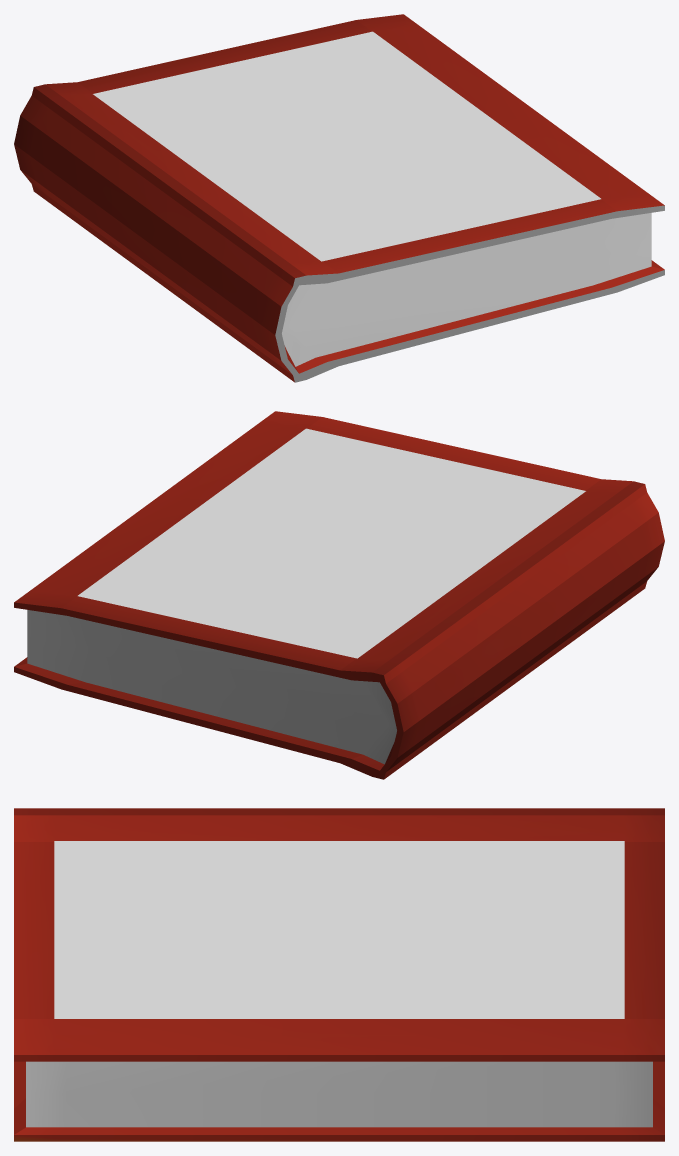
File: Fixed_Item_Book_W_Label_Ver1.fbx
The picture shows the model from 3 angles, top to bottom: view 1: azimuth 30°, elevation 25°; view 2: azimuth 150°, elevation 25°; view 3: azimuth 270°, elevation 25°; orthographic projection. The views are drawn at different scales.
Visible parts, largest first — view 1: Book_low, Book_Label; view 2: Book_low, Book_Label; view 3: Book_low, Book_Label.
Boxes of the visible parts, bbox=[...] form: Book_low: bbox=[14, 14, 664, 382]; Book_Label: bbox=[93, 31, 600, 261]; Book_low: bbox=[14, 411, 664, 779]; Book_Label: bbox=[78, 428, 585, 658]; Book_low: bbox=[14, 808, 664, 1141]; Book_Label: bbox=[54, 841, 624, 1018].
Bounding box in the file's own units: 972 × 249 × 1129.
Materials: 2 (1 with a texture image).
